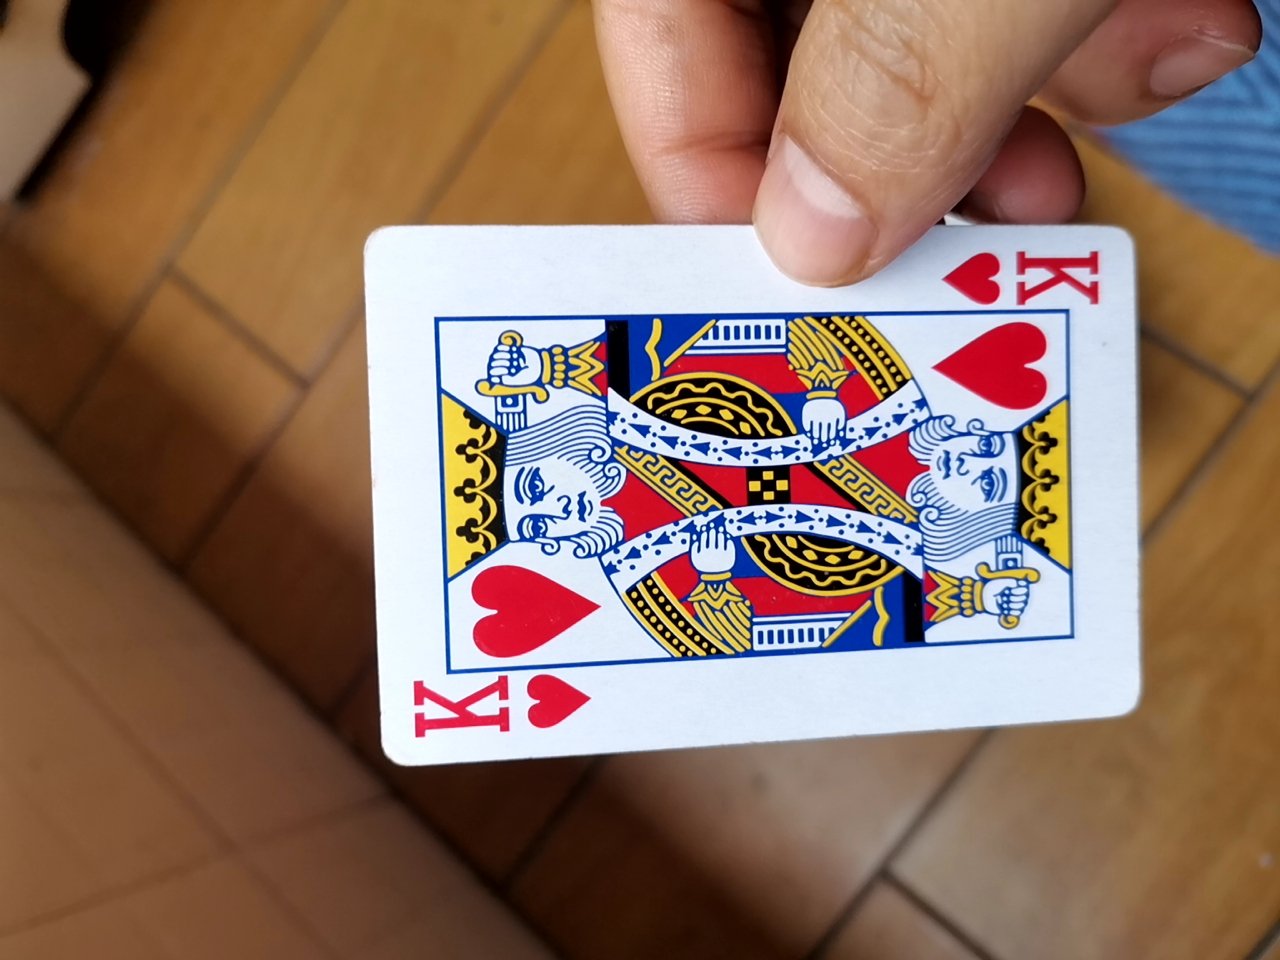hx k: (345, 221, 1135, 764)
